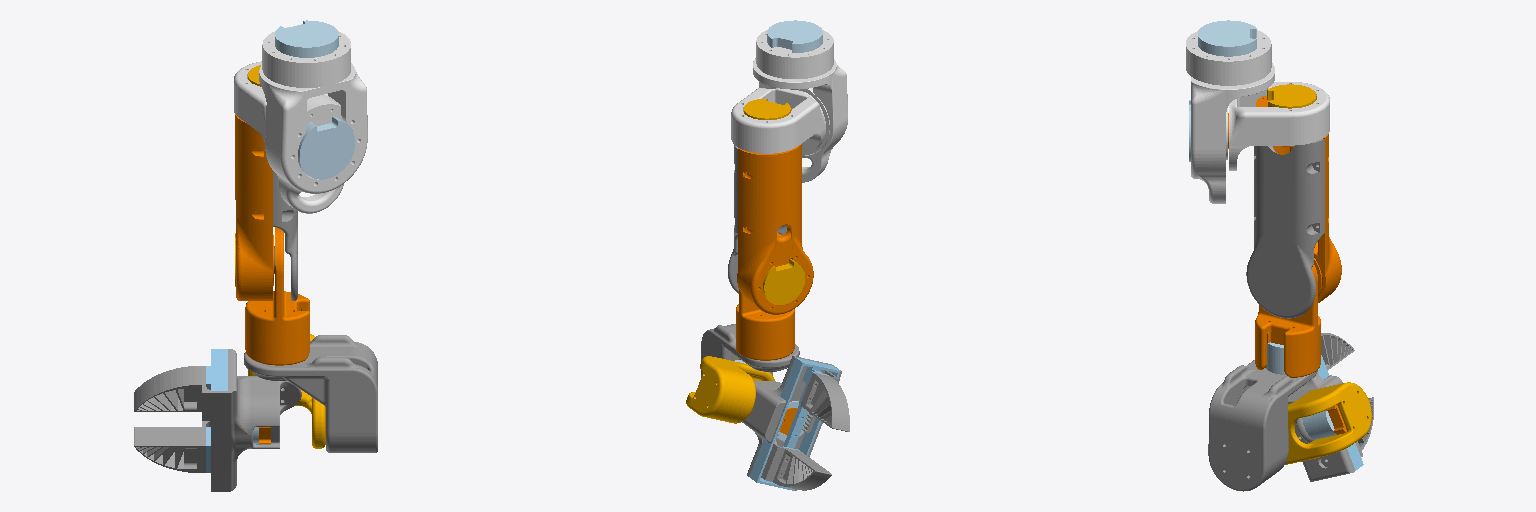
--- What the picture shows (computed from the rendered views, not written in the file) ---
Views: 3 orthographic renders of the robot side by side, from view 1: azimuth 30°, elevation 25°; view 2: azimuth 150°, elevation 25°; view 3: azimuth 270°, elevation 25°.
Robot: robot — 40 links, 39 joints (8 revolute, 2 prismatic, 29 fixed); root link link_x8_1_pcb_x8_1; default pose: all joints at 0.
Visible links, largest first — view 1: link_hand_right_1_wrist_pitch_right_2, link_shoulder_inner_1, link_hand_right_1_twist_mount_1, link_elbow_1, link_forearm_1, link_x8_1_outer_x8_1, link_x8_2_pcb_x8_1, link_hand_right_1_gripper_1, link_hand_right_1_gripper_2, link_x8_1_pcb_x8_1, link_shoulder_nontorso_1, link_elbow_case_1 (+3 smaller); view 2: link_elbow_1, link_shoulder_nontorso_1, link_hand_right_1_wrist_yaw_1, link_shoulder_inner_1, link_forearm_1, link_x8_1_outer_x8_1, link_hand_right_1_twist_mount_1, link_hand_right_1_base_attachment_1, link_hand_right_1_gripper_1, link_hand_right_1_wrist_pitch_right_2, link_hand_right_1_gripper_2, link_x8_1_pcb_x8_1 (+3 smaller); view 3: link_elbow_case_1, link_hand_right_1_wrist_pitch_right_2, link_shoulder_nontorso_1, link_shoulder_inner_1, link_hand_right_1_wrist_yaw_1, link_forearm_1, link_x8_1_outer_x8_1, link_hand_right_1_twist_mount_1, link_x8_1_pcb_x8_1, link_elbow_1, link_x6_1_pcb_x6_1, link_hand_right_1_gripper_1 (+1 smaller).
Boxes of the visible links, x1,y1,x2,y2 form: link_hand_right_1_wrist_pitch_right_2: (244, 335, 377, 452); link_shoulder_inner_1: (259, 63, 367, 213); link_hand_right_1_twist_mount_1: (211, 349, 301, 491); link_elbow_1: (235, 114, 272, 300); link_forearm_1: (245, 227, 309, 365); link_x8_1_outer_x8_1: (262, 27, 350, 87); link_x8_2_pcb_x8_1: (298, 116, 354, 179); link_hand_right_1_gripper_1: (134, 366, 201, 411); link_hand_right_1_gripper_2: (134, 427, 201, 472); link_x8_1_pcb_x8_1: (275, 20, 338, 57); link_shoulder_nontorso_1: (234, 61, 327, 141); link_elbow_case_1: (273, 171, 297, 300); link_elbow_1: (737, 144, 813, 314); link_shoulder_nontorso_1: (731, 88, 825, 155); link_hand_right_1_wrist_yaw_1: (686, 356, 774, 423); link_shoulder_inner_1: (753, 58, 847, 182); link_forearm_1: (736, 290, 794, 360); link_x8_1_outer_x8_1: (756, 30, 833, 78); link_hand_right_1_twist_mount_1: (742, 356, 841, 490); link_hand_right_1_base_attachment_1: (749, 357, 840, 490); link_hand_right_1_gripper_1: (802, 374, 849, 431); link_hand_right_1_wrist_pitch_right_2: (701, 324, 799, 376); link_hand_right_1_gripper_2: (773, 449, 831, 490); link_x8_1_pcb_x8_1: (767, 20, 822, 52); link_elbow_case_1: (1246, 139, 1324, 318); link_hand_right_1_wrist_pitch_right_2: (1208, 360, 1317, 491); link_shoulder_nontorso_1: (1229, 82, 1329, 170); link_shoulder_inner_1: (1191, 63, 1274, 203); link_hand_right_1_wrist_yaw_1: (1285, 382, 1371, 464); link_forearm_1: (1255, 265, 1320, 377); link_x8_1_outer_x8_1: (1186, 30, 1271, 85); link_hand_right_1_twist_mount_1: (1288, 372, 1354, 481); link_x8_1_pcb_x8_1: (1198, 20, 1256, 56); link_elbow_1: (1273, 134, 1341, 302); link_x6_1_pcb_x6_1: (1267, 84, 1316, 108); link_hand_right_1_gripper_1: (1321, 333, 1354, 369).
Size in the robot's own frame: 0.2638 by 0.2154 by 0.5849 metres.
40 mesh visuals loaded from 40 distinct referenced files (40 binary STL).

The robot description file, URDF, robot "robot":
<?xml version='1.0' encoding='utf-8'?>
<robot name="robot">
  <link name="link_x8_1_pcb_x8_1">
    <visual>
      <origin xyz="0 0 0" rpy="0 0 0" />
      <geometry>
        <mesh filename="./meshes/x8_1_pcb_x8_1.stl" />
      </geometry>
      <material name="link_x8_1_pcb_x8_1_material">
        <color rgba="0.76862745 0.88627451 0.95294118 1" />
      </material>
    </visual>
    <collision>
      <origin xyz="0 0 0" rpy="0 0 0" />
      <geometry>
        <mesh filename="./meshes/x8_1_pcb_x8_1.stl" />
      </geometry>
    </collision>
    <inertial>
      <mass value="0.048559947" />
      <inertia ixx="1.3682683e-05" iyy="1.6841341e-05" izz="2.9259442e-05" ixy="0" ixz="0" iyz="0" />
      <origin xyz="0 0 0" rpy="0 0 0" />
    </inertial>
  </link>
  <link name="link_x8_1_outer_x8_1">
    <visual>
      <origin xyz="0 0 0" rpy="0 0 0" />
      <geometry>
        <mesh filename="./meshes/x8_1_outer_x8_1.stl" />
      </geometry>
      <material name="link_x8_1_outer_x8_1_material">
        <color rgba="0.91764706 0.91764706 0.91764706 1" />
      </material>
    </visual>
    <collision>
      <origin xyz="0 0 0" rpy="0 0 0" />
      <geometry>
        <mesh filename="./meshes/x8_1_outer_x8_1.stl" />
      </geometry>
    </collision>
    <inertial>
      <mass value="0.64135588" />
      <inertia ixx="0.0004995997" iyy="0.00049960271" izz="0.00089477222" ixy="0" ixz="0" iyz="0" />
      <origin xyz="0 0 0.015652571" rpy="3.5012681e-06 0 0" />
    </inertial>
  </link>
  <joint name="joint_x8_1_fastened_1" type="fixed">
    <origin xyz="0 0.0021459929 -0.00625" rpy="3.1415927 0 0" />
    <parent link="link_x8_1_pcb_x8_1" />
    <child link="link_x8_1_outer_x8_1" />
  </joint>
  <link name="link_x8_1_inner_x8_1">
    <visual>
      <origin xyz="0 0 0" rpy="0 0 0" />
      <geometry>
        <mesh filename="./meshes/x8_1_inner_x8_1.stl" />
      </geometry>
      <material name="link_x8_1_inner_x8_1_material">
        <color rgba="0.97254902 0.52941176 0.0039215686 1" />
      </material>
    </visual>
    <collision>
      <origin xyz="0 0 0" rpy="0 0 0" />
      <geometry>
        <mesh filename="./meshes/x8_1_inner_x8_1.stl" />
      </geometry>
    </collision>
    <inertial>
      <mass value="0.13865861" />
      <inertia ixx="2.7062809e-05" iyy="2.7062809e-05" izz="2.8959079e-05" ixy="0" ixz="0" iyz="0" />
      <origin xyz="0 0 -0.0165" rpy="3.1415927 0 0" />
    </inertial>
  </link>
  <joint name="joint_x8_1_dof_x8" type="revolute">
    <origin xyz="0 0 0" rpy="3.1415927 0 0" />
    <parent link="link_x8_1_outer_x8_1" />
    <child link="link_x8_1_inner_x8_1" />
    <limit effort="80" velocity="5" lower="-2.0943951" upper="2.0943951" />
    <axis xyz="0 0 -1" />
  </joint>
  <link name="link_shoulder_inner_1">
    <visual>
      <origin xyz="0 0 0" rpy="0 0 0" />
      <geometry>
        <mesh filename="./meshes/shoulder_inner_1.stl" />
      </geometry>
      <material name="link_shoulder_inner_1_material">
        <color rgba="0.91764706 0.91764706 0.91764706 1" />
      </material>
    </visual>
    <collision>
      <origin xyz="0 0 0" rpy="0 0 0" />
      <geometry>
        <mesh filename="./meshes/shoulder_inner_1.stl" />
      </geometry>
    </collision>
    <inertial>
      <mass value="0.098694821" />
      <inertia ixx="0.00029234831" iyy="0.00037180534" izz="0.0001651911" ixy="0" ixz="1.5856387e-06" iyz="-3.1309639e-05" />
      <origin xyz="0.00053435842 0.030503746 0.051654382" rpy="1.7179432 -0.0013420304 -1.5828294" />
    </inertial>
  </link>
  <joint name="joint_fastened_8" type="fixed">
    <origin xyz="0 0.0155 -0.033" rpy="3.1415927 0 0" />
    <parent link="link_x8_1_inner_x8_1" />
    <child link="link_shoulder_inner_1" />
  </joint>
  <link name="link_x8_2_outer_x8_1">
    <visual>
      <origin xyz="0 0 0" rpy="0 0 0" />
      <geometry>
        <mesh filename="./meshes/x8_2_outer_x8_1.stl" />
      </geometry>
      <material name="link_x8_2_outer_x8_1_material">
        <color rgba="0.91764706 0.91764706 0.91764706 1" />
      </material>
    </visual>
    <collision>
      <origin xyz="0 0 0" rpy="0 0 0" />
      <geometry>
        <mesh filename="./meshes/x8_2_outer_x8_1.stl" />
      </geometry>
    </collision>
    <inertial>
      <mass value="0.64135588" />
      <inertia ixx="0.0004995997" iyy="0.00049960271" izz="0.00089477222" ixy="0" ixz="0" iyz="0" />
      <origin xyz="0.033978714 -0.024687118 -0.015652571" rpy="-3.1415892 0 0" />
    </inertial>
  </link>
  <joint name="joint_fastened_11" type="fixed">
    <origin xyz="-0.033978714 0.0485 0.052313019" rpy="-1.5707963 0 0" />
    <parent link="link_shoulder_inner_1" />
    <child link="link_x8_2_outer_x8_1" />
  </joint>
  <link name="link_x8_2_inner_x8_1">
    <visual>
      <origin xyz="0 0 0" rpy="0 0 0" />
      <geometry>
        <mesh filename="./meshes/x8_2_inner_x8_1.stl" />
      </geometry>
      <material name="link_x8_2_inner_x8_1_material">
        <color rgba="0.97254902 0.52941176 0.0039215686 1" />
      </material>
    </visual>
    <collision>
      <origin xyz="0 0 0" rpy="0 0 0" />
      <geometry>
        <mesh filename="./meshes/x8_2_inner_x8_1.stl" />
      </geometry>
    </collision>
    <inertial>
      <mass value="0.13865861" />
      <inertia ixx="2.7062809e-05" iyy="2.7062809e-05" izz="2.8959079e-05" ixy="0" ixz="0" iyz="0" />
      <origin xyz="0 0 -0.0165" rpy="3.1415927 0 0" />
    </inertial>
  </link>
  <joint name="joint_x8_2_dof_x8" type="revolute">
    <origin xyz="0.033978714 -0.024686981 0" rpy="0 0 0" />
    <parent link="link_x8_2_outer_x8_1" />
    <child link="link_x8_2_inner_x8_1" />
    <limit effort="80" velocity="5" lower="0" upper="1.9198622" />
    <axis xyz="0 0 -1" />
  </joint>
  <link name="link_x8_2_pcb_x8_1">
    <visual>
      <origin xyz="0 0 0" rpy="0 0 0" />
      <geometry>
        <mesh filename="./meshes/x8_2_pcb_x8_1.stl" />
      </geometry>
      <material name="link_x8_2_pcb_x8_1_material">
        <color rgba="0.76862745 0.88627451 0.95294118 1" />
      </material>
    </visual>
    <collision>
      <origin xyz="0 0 0" rpy="0 0 0" />
      <geometry>
        <mesh filename="./meshes/x8_2_pcb_x8_1.stl" />
      </geometry>
    </collision>
    <inertial>
      <mass value="0.048559947" />
      <inertia ixx="1.3682683e-05" iyy="1.6841341e-05" izz="2.9259442e-05" ixy="0" ixz="0" iyz="0" />
      <origin xyz="0 0.0021459929 -0.00625" rpy="3.1415927 0 0" />
    </inertial>
  </link>
  <joint name="joint_x8_2_fastened_1" type="fixed">
    <origin xyz="0.033978714 -0.024686981 0" rpy="3.1415927 0 0" />
    <parent link="link_x8_2_outer_x8_1" />
    <child link="link_x8_2_pcb_x8_1" />
  </joint>
  <link name="link_shoulder_nontorso_1">
    <visual>
      <origin xyz="0 0 0" rpy="0 0 0" />
      <geometry>
        <mesh filename="./meshes/shoulder_nontorso_1.stl" />
      </geometry>
      <material name="link_shoulder_nontorso_1_material">
        <color rgba="0.91764706 0.91764706 0.91764706 1" />
      </material>
    </visual>
    <collision>
      <origin xyz="0 0 0" rpy="0 0 0" />
      <geometry>
        <mesh filename="./meshes/shoulder_nontorso_1.stl" />
      </geometry>
    </collision>
    <inertial>
      <mass value="0.063774449" />
      <inertia ixx="0.00010527094" iyy="0.00014035757" izz="8.752817e-05" ixy="0" ixz="0" iyz="2.014856e-05" />
      <origin xyz="0 -0.00039671854 -0.036390201" rpy="1.2449817 2.5435401e-06 -1.5707837" />
    </inertial>
  </link>
  <joint name="joint_fastened_1" type="fixed">
    <origin xyz="0 0.0155 -0.033" rpy="0 0 0" />
    <parent link="link_x8_2_inner_x8_1" />
    <child link="link_shoulder_nontorso_1" />
  </joint>
  <link name="link_x6_1_outer_x6_1">
    <visual>
      <origin xyz="0 0 0" rpy="0 0 0" />
      <geometry>
        <mesh filename="./meshes/x6_1_outer_x6_1.stl" />
      </geometry>
      <material name="link_x6_1_outer_x6_1_material">
        <color rgba="0.97254902 0.52941176 0.0039215686 1" />
      </material>
    </visual>
    <collision>
      <origin xyz="0 0 0" rpy="0 0 0" />
      <geometry>
        <mesh filename="./meshes/x6_1_outer_x6_1.stl" />
      </geometry>
    </collision>
    <inertial>
      <mass value="0.29628126" />
      <inertia ixx="0.00015648456" iyy="0.00026587276" izz="0.00015648465" ixy="0" ixz="0" iyz="0" />
      <origin xyz="0 0.036 -0.015437886" rpy="-3.1415663 0 -1.5707967" />
    </inertial>
  </link>
  <joint name="joint_fastened_2" type="fixed">
    <origin xyz="-0.036 0.017 -0.0705" rpy="-1.5707963 -1.5707963 0" />
    <parent link="link_shoulder_nontorso_1" />
    <child link="link_x6_1_outer_x6_1" />
  </joint>
  <link name="link_x6_1_inner_x6_1">
    <visual>
      <origin xyz="0 0 0" rpy="0 0 0" />
      <geometry>
        <mesh filename="./meshes/x6_1_inner_x6_1.stl" />
      </geometry>
      <material name="link_x6_1_inner_x6_1_material">
        <color rgba="0.49803922 0.49803922 0.49803922 1" />
      </material>
    </visual>
    <collision>
      <origin xyz="0 0 0" rpy="0 0 0" />
      <geometry>
        <mesh filename="./meshes/x6_1_inner_x6_1.stl" />
      </geometry>
    </collision>
    <inertial>
      <mass value="0.053731806" />
      <inertia ixx="7.930353e-06" iyy="6.4016694e-06" izz="7.930353e-06" ixy="0" ixz="0" iyz="0" />
      <origin xyz="0 0 -0.01625" rpy="1.5707963 1.5707963 0" />
    </inertial>
  </link>
  <joint name="joint_x6_1_dof_x6" type="revolute">
    <origin xyz="0 0.036 0" rpy="0 0 0" />
    <parent link="link_x6_1_outer_x6_1" />
    <child link="link_x6_1_inner_x6_1" />
    <limit effort="80" velocity="5" lower="-1.0471976" upper="3.6651914" />
    <axis xyz="0 0 -1" />
  </joint>
  <link name="link_x6_1_pcb_x6_1">
    <visual>
      <origin xyz="0 0 0" rpy="0 0 0" />
      <geometry>
        <mesh filename="./meshes/x6_1_pcb_x6_1.stl" />
      </geometry>
      <material name="link_x6_1_pcb_x6_1_material">
        <color rgba="0.98039216 0.71372549 0.0039215686 1" />
      </material>
    </visual>
    <collision>
      <origin xyz="0 0 0" rpy="0 0 0" />
      <geometry>
        <mesh filename="./meshes/x6_1_pcb_x6_1.stl" />
      </geometry>
    </collision>
    <inertial>
      <mass value="0.032395494" />
      <inertia ixx="6.266658e-06" iyy="1.3729044e-05" izz="8.2398782e-06" ixy="0" ixz="0" iyz="0" />
      <origin xyz="-0.0024625066 8.0472631e-06 -0.006" rpy="0.003369609 0.003369609 3.1415927" />
    </inertial>
  </link>
  <joint name="joint_x6_1_fastened_1" type="fixed">
    <origin xyz="0 0.036 0" rpy="3.1415927 0 0" />
    <parent link="link_x6_1_outer_x6_1" />
    <child link="link_x6_1_pcb_x6_1" />
  </joint>
  <link name="link_elbow_1">
    <visual>
      <origin xyz="0 0 0" rpy="0 0 0" />
      <geometry>
        <mesh filename="./meshes/elbow_1.stl" />
      </geometry>
      <material name="link_elbow_1_material">
        <color rgba="0.97254902 0.52941176 0.0039215686 1" />
      </material>
    </visual>
    <collision>
      <origin xyz="0 0 0" rpy="0 0 0" />
      <geometry>
        <mesh filename="./meshes/elbow_1.stl" />
      </geometry>
    </collision>
    <inertial>
      <mass value="0.098238471" />
      <inertia ixx="0.00045271693" iyy="8.9162813e-05" izz="0.00050860798" ixy="0" ixz="0" iyz="1.2964992e-05" />
      <origin xyz="0.035397182 -6.3197008e-05 -0.095352686" rpy="1.6213128 -1.5398856 1.5169082" />
    </inertial>
  </link>
  <joint name="joint_fastened_3" type="fixed">
    <origin xyz="0.00575 0.0099592921 -0.0325" rpy="0 0 -2.0943951" />
    <parent link="link_x6_1_inner_x6_1" />
    <child link="link_elbow_1" />
  </joint>
  <link name="link_x6_2_outer_x6_1">
    <visual>
      <origin xyz="0 0 0" rpy="0 0 0" />
      <geometry>
        <mesh filename="./meshes/x6_2_outer_x6_1.stl" />
      </geometry>
      <material name="link_x6_2_outer_x6_1_material">
        <color rgba="0.97254902 0.52941176 0.0039215686 1" />
      </material>
    </visual>
    <collision>
      <origin xyz="0 0 0" rpy="0 0 0" />
      <geometry>
        <mesh filename="./meshes/x6_2_outer_x6_1.stl" />
      </geometry>
    </collision>
    <inertial>
      <mass value="0.29628126" />
      <inertia ixx="0.00015648456" iyy="0.00026587276" izz="0.00015648465" ixy="0" ixz="0" iyz="0" />
      <origin xyz="-0.031176923 0.018 -0.015437886" rpy="-3.1415663 0 -1.5707967" />
    </inertial>
  </link>
  <joint name="joint_fastened_4" type="fixed">
    <origin xyz="0.044 0.018 -0.15032309" rpy="-3.1415927 -1.5707963 0" />
    <parent link="link_elbow_1" />
    <child link="link_x6_2_outer_x6_1" />
  </joint>
  <link name="link_elbow_case_1">
    <visual>
      <origin xyz="0 0 0" rpy="0 0 0" />
      <geometry>
        <mesh filename="./meshes/elbow_case_1.stl" />
      </geometry>
      <material name="link_elbow_case_1_material">
        <color rgba="0.64705882 0.64705882 0.64705882 1" />
      </material>
    </visual>
    <collision>
      <origin xyz="0 0 0" rpy="0 0 0" />
      <geometry>
        <mesh filename="./meshes/elbow_case_1.stl" />
      </geometry>
    </collision>
    <inertial>
      <mass value="0.074847468" />
      <inertia ixx="6.1192099e-05" iyy="0.00026901522" izz="0.00032097721" ixy="-2.3127639e-06" ixz="-1.5578374e-05" iyz="0" />
      <origin xyz="-0.013470014 -0.03920712 -0.017022247" rpy="3.134696 -0.011643395 3.0819768" />
    </inertial>
  </link>
  <joint name="joint_fastened_9" type="fixed">
    <origin xyz="0.014 0.04032563 -0.10877135" rpy="0 1.5707963 0" />
    <parent link="link_elbow_1" />
    <child link="link_elbow_case_1" />
  </joint>
  <link name="link_x6_2_inner_x6_1">
    <visual>
      <origin xyz="0 0 0" rpy="0 0 0" />
      <geometry>
        <mesh filename="./meshes/x6_2_inner_x6_1.stl" />
      </geometry>
      <material name="link_x6_2_inner_x6_1_material">
        <color rgba="0.49803922 0.49803922 0.49803922 1" />
      </material>
    </visual>
    <collision>
      <origin xyz="0 0 0" rpy="0 0 0" />
      <geometry>
        <mesh filename="./meshes/x6_2_inner_x6_1.stl" />
      </geometry>
    </collision>
    <inertial>
      <mass value="0.053731806" />
      <inertia ixx="7.930353e-06" iyy="6.4016694e-06" izz="7.930353e-06" ixy="0" ixz="0" iyz="0" />
      <origin xyz="0 0 -0.01625" rpy="1.5707963 1.5707963 0" />
    </inertial>
  </link>
  <joint name="joint_x6_2_dof_x6" type="revolute">
    <origin xyz="-0.031176915 0.018 0" rpy="0 0 0" />
    <parent link="link_x6_2_outer_x6_1" />
    <child link="link_x6_2_inner_x6_1" />
    <limit effort="80" velocity="5" lower="-1.5707963" upper="1.5707963" />
    <axis xyz="0 0 -1" />
  </joint>
  <link name="link_x6_2_pcb_x6_1">
    <visual>
      <origin xyz="0 0 0" rpy="0 0 0" />
      <geometry>
        <mesh filename="./meshes/x6_2_pcb_x6_1.stl" />
      </geometry>
      <material name="link_x6_2_pcb_x6_1_material">
        <color rgba="0.98039216 0.71372549 0.0039215686 1" />
      </material>
    </visual>
    <collision>
      <origin xyz="0 0 0" rpy="0 0 0" />
      <geometry>
        <mesh filename="./meshes/x6_2_pcb_x6_1.stl" />
      </geometry>
    </collision>
    <inertial>
      <mass value="0.032395494" />
      <inertia ixx="6.266658e-06" iyy="1.3729044e-05" izz="8.2398782e-06" ixy="0" ixz="0" iyz="0" />
      <origin xyz="-0.0024625066 8.0472631e-06 -0.006" rpy="0.003369609 0.003369609 3.1415927" />
    </inertial>
  </link>
  <joint name="joint_x6_2_fastened_1" type="fixed">
    <origin xyz="-0.031176915 0.018 0" rpy="3.1415927 0 0" />
    <parent link="link_x6_2_outer_x6_1" />
    <child link="link_x6_2_pcb_x6_1" />
  </joint>
  <link name="link_forearm_1">
    <visual>
      <origin xyz="0 0 0" rpy="0 0 0" />
      <geometry>
        <mesh filename="./meshes/forearm_1.stl" />
      </geometry>
      <material name="link_forearm_1_material">
        <color rgba="0.97254902 0.52941176 0.0039215686 1" />
      </material>
    </visual>
    <collision>
      <origin xyz="0 0 0" rpy="0 0 0" />
      <geometry>
        <mesh filename="./meshes/forearm_1.stl" />
      </geometry>
    </collision>
    <inertial>
      <mass value="0.06383574" />
      <inertia ixx="0.00010660821" iyy="0.00012183306" izz="4.9046771e-05" ixy="0" ixz="0" iyz="4.8948211e-06" />
      <origin xyz="-0.067423421 0 0.0020181814" rpy="-0.78424283 1.4762905 -2.3572805" />
    </inertial>
  </link>
  <joint name="joint_fastened_5" type="fixed">
    <origin xyz="0.0115 0 -0.0325" rpy="3.1415927 0 0" />
    <parent link="link_x6_2_inner_x6_1" />
    <child link="link_forearm_1" />
  </joint>
  <link name="link_x4_1_pcb_x4_h_1">
    <visual>
      <origin xyz="0 0 0" rpy="0 0 0" />
      <geometry>
        <mesh filename="./meshes/x4_1_pcb_x4_h_1.stl" />
      </geometry>
      <material name="link_x4_1_pcb_x4_h_1_material">
        <color rgba="0.97254902 0.52941176 0.0039215686 1" />
      </material>
    </visual>
    <collision>
      <origin xyz="0 0 0" rpy="0 0 0" />
      <geometry>
        <mesh filename="./meshes/x4_1_pcb_x4_h_1.stl" />
      </geometry>
    </collision>
    <inertial>
      <mass value="0.029564618" />
      <inertia ixx="4.8930802e-06" iyy="6.0010713e-06" izz="9.9964453e-06" ixy="0" ixz="0" iyz="0" />
      <origin xyz="0.015909903 0.014250744 -0.0067605702" rpy="3.1415927 0 0" />
    </inertial>
  </link>
  <joint name="joint_fastened_6" type="fixed">
    <origin xyz="-0.076 -0.015909901 -0.010909904" rpy="1.5707963 0 1.5707963" />
    <parent link="link_forearm_1" />
    <child link="link_x4_1_pcb_x4_h_1" />
  </joint>
  <link name="link_x4_1_outer_x4_h_1">
    <visual>
      <origin xyz="0 0 0" rpy="0 0 0" />
      <geometry>
        <mesh filename="./meshes/x4_1_outer_x4_h_1.stl" />
      </geometry>
      <material name="link_x4_1_outer_x4_h_1_material">
        <color rgba="0.76862745 0.88627451 0.95294118 1" />
      </material>
    </visual>
    <collision>
      <origin xyz="0 0 0" rpy="0 0 0" />
      <geometry>
        <mesh filename="./meshes/x4_1_outer_x4_h_1.stl" />
      </geometry>
    </collision>
    <inertial>
      <mass value="0.15533844" />
      <inertia ixx="5.6668323e-05" iyy="5.6668375e-05" izz="8.3408195e-05" ixy="0" ixz="0" iyz="0" />
      <origin xyz="0 0 0.01700001" rpy="1.3941927e-06 0 0" />
    </inertial>
  </link>
  <joint name="joint_x4_1_fastened_1" type="fixed">
    <origin xyz="0.015909904 0.015909902 -0.0135" rpy="3.1415927 0 0" />
    <parent link="link_x4_1_pcb_x4_h_1" />
    <child link="link_x4_1_outer_x4_h_1" />
  </joint>
  <link name="link_x4_1_inner_x4_h_1">
    <visual>
      <origin xyz="0 0 0" rpy="0 0 0" />
      <geometry>
        <mesh filename="./meshes/x4_1_inner_x4_h_1.stl" />
      </geometry>
      <material name="link_x4_1_inner_x4_h_1_material">
        <color rgba="0.97254902 0.52941176 0.0039215686 1" />
      </material>
    </visual>
    <collision>
      <origin xyz="0 0 0" rpy="0 0 0" />
      <geometry>
        <mesh filename="./meshes/x4_1_inner_x4_h_1.stl" />
      </geometry>
    </collision>
    <inertial>
      <mass value="0.14964637" />
      <inertia ixx="2.7715788e-05" iyy="2.7715788e-05" izz="2.5745478e-05" ixy="0" ixz="0" iyz="0" />
      <origin xyz="0 0 -0.01725" rpy="3.1415927 0 3.1415927" />
    </inertial>
  </link>
  <joint name="joint_x4_1_dof_x4" type="revolute">
    <origin xyz="0 0 0" rpy="3.1415927 0 0" />
    <parent link="link_x4_1_outer_x4_h_1" />
    <child link="link_x4_1_inner_x4_h_1" />
    <limit effort="80" velocity="5" lower="-3.1415927" upper="3.1415927" />
    <axis xyz="0 0 -1" />
  </joint>
  <link name="link_hand_right_1_wrist_pitch_right_2">
    <visual>
      <origin xyz="0 0 0" rpy="0 0 0" />
      <geometry>
        <mesh filename="./meshes/hand_right_1_wrist_pitch_right_2.stl" />
      </geometry>
      <material name="link_hand_right_1_wrist_pitch_right_2_material">
        <color rgba="0.64705882 0.64705882 0.64705882 1" />
      </material>
    </visual>
    <collision>
      <origin xyz="0 0 0" rpy="0 0 0" />
      <geometry>
        <mesh filename="./meshes/hand_right_1_wrist_pitch_right_2.stl" />
      </geometry>
    </collision>
    <inertial>
      <mass value="0.11883921" />
      <inertia ixx="0.00022396918" iyy="0.00030973639" izz="0.00022964024" ixy="-2.3996515e-06" ixz="8.07447e-05" iyz="0" />
      <origin xyz="0.076364792 -0.0069891141 -0.041733842" rpy="0.13573534 -0.38777107 0.5781489" />
    </inertial>
  </link>
  <joint name="joint_fastened_10" type="fixed">
    <origin xyz="-0.0012020773 -0.011437002 -0.0345" rpy="0 0 1.5707963" />
    <parent link="link_x4_1_inner_x4_h_1" />
    <child link="link_hand_right_1_wrist_pitch_right_2" />
  </joint>
  <link name="link_hand_right_1_x4_3_pcb_x4_h_1">
    <visual>
      <origin xyz="0 0 0" rpy="0 0 0" />
      <geometry>
        <mesh filename="./meshes/hand_right_1_x4_3_pcb_x4_h_1.stl" />
      </geometry>
      <material name="link_hand_right_1_x4_3_pcb_x4_h_1_material">
        <color rgba="0.97254902 0.52941176 0.0039215686 1" />
      </material>
    </visual>
    <collision>
      <origin xyz="0 0 0" rpy="0 0 0" />
      <geometry>
        <mesh filename="./meshes/hand_right_1_x4_3_pcb_x4_h_1.stl" />
      </geometry>
    </collision>
    <inertial>
      <mass value="0.029564618" />
      <inertia ixx="4.8930802e-06" iyy="6.0010713e-06" izz="9.9964453e-06" ixy="0" ixz="0" iyz="0" />
      <origin xyz="-0.015909904 -0.017569059 -0.0067605702" rpy="3.1415927 0 0" />
    </inertial>
  </link>
  <joint name="joint_hand_right_1_fastened_5" type="fixed">
    <origin xyz="0.1103037 0.0091503732 -0.062090098" rpy="1.5707963 0 1.5707963" />
    <parent link="link_hand_right_1_wrist_pitch_right_2" />
    <child link="link_hand_right_1_x4_3_pcb_x4_h_1" />
  </joint>
  <link name="link_hand_right_1_x4_3_outer_x4_h_1">
    <visual>
      <origin xyz="0 0 0" rpy="0 0 0" />
      <geometry>
        <mesh filename="./meshes/hand_right_1_x4_3_outer_x4_h_1.stl" />
      </geometry>
      <material name="link_hand_right_1_x4_3_outer_x4_h_1_material">
        <color rgba="0.76862745 0.88627451 0.95294118 1" />
      </material>
    </visual>
    <collision>
      <origin xyz="0 0 0" rpy="0 0 0" />
      <geometry>
        <mesh filename="./meshes/hand_right_1_x4_3_outer_x4_h_1.stl" />
      </geometry>
    </collision>
    <inertial>
      <mass value="0.15533844" />
      <inertia ixx="5.6668323e-05" iyy="5.6668375e-05" izz="8.3408195e-05" ixy="0" ixz="0" iyz="0" />
      <origin xyz="0 0 0.01700001" rpy="1.3941927e-06 0 0" />
    </inertial>
  </link>
  <joint name="joint_hand_right_1_x4_3_fastened_1" type="fixed">
    <origin xyz="-0.015909904 -0.015909902 -0.0135" rpy="3.1415927 0 0" />
    <parent link="link_hand_right_1_x4_3_pcb_x4_h_1" />
    <child link="link_hand_right_1_x4_3_outer_x4_h_1" />
  </joint>
  <link name="link_hand_right_1_x4_3_inner_x4_h_1">
    <visual>
      <origin xyz="0 0 0" rpy="0 0 0" />
      <geometry>
        <mesh filename="./meshes/hand_right_1_x4_3_inner_x4_h_1.stl" />
      </geometry>
      <material name="link_hand_right_1_x4_3_inner_x4_h_1_material">
        <color rgba="0.97254902 0.52941176 0.0039215686 1" />
      </material>
    </visual>
    <collision>
      <origin xyz="0 0 0" rpy="0 0 0" />
      <geometry>
        <mesh filename="./meshes/hand_right_1_x4_3_inner_x4_h_1.stl" />
      </geometry>
    </collision>
    <inertial>
      <mass value="0.14964637" />
      <inertia ixx="2.7715788e-05" iyy="2.7715788e-05" izz="2.5745478e-05" ixy="0" ixz="0" iyz="0" />
      <origin xyz="0 0 -0.01725" rpy="3.1415927 0 3.1415927" />
    </inertial>
  </link>
  <joint name="joint_hand_right_1_x4_3_dof_x4" type="revolute">
    <origin xyz="0 0 0" rpy="3.1415927 0 0" />
    <parent link="link_hand_right_1_x4_3_outer_x4_h_1" />
    <child link="link_hand_right_1_x4_3_inner_x4_h_1" />
    <limit effort="80" velocity="5" lower="-3.1415927" upper="3.1415927" />
    <axis xyz="0 0 -1" />
  </joint>
  <link name="link_hand_right_1_wrist_yaw_1">
    <visual>
      <origin xyz="0 0 0" rpy="0 0 0" />
      <geometry>
        <mesh filename="./meshes/hand_right_1_wrist_yaw_1.stl" />
      </geometry>
      <material name="link_hand_right_1_wrist_yaw_1_material">
        <color rgba="0.98039216 0.71372549 0.0039215686 1" />
      </material>
    </visual>
    <collision>
      <origin xyz="0 0 0" rpy="0 0 0" />
      <geometry>
        <mesh filename="./meshes/hand_right_1_wrist_yaw_1.stl" />
      </geometry>
    </collision>
    <inertial>
      <mass value="0.060439892" />
      <inertia ixx="0.00012252444" iyy="7.0062832e-05" izz="0.0001120905" ixy="0" ixz="0" iyz="-3.5610326e-05" />
      <origin xyz="0 -0.0434315 -0.02963019" rpy="-0.51883845 -0.51883873 -1.8914113e-06" />
    </inertial>
  </link>
  <joint name="joint_hand_right_1_fastened_7" type="fixed">
    <origin xyz="0.010505773 0.0046774714 -0.0345" rpy="0 0 1.9896753" />
    <parent link="link_hand_right_1_x4_3_inner_x4_h_1" />
    <child link="link_hand_right_1_wrist_yaw_1" />
  </joint>
  <link name="link_hand_right_1_x4_1_pcb_x4_h_1">
    <visual>
      <origin xyz="0 0 0" rpy="0 0 0" />
      <geometry>
        <mesh filename="./meshes/hand_right_1_x4_1_pcb_x4_h_1.stl" />
      </geometry>
      <material name="link_hand_right_1_x4_1_pcb_x4_h_1_material">
        <color rgba="0.97254902 0.52941176 0.0039215686 1" />
      </material>
    </visual>
    <collision>
      <origin xyz="0 0 0" rpy="0 0 0" />
      <geometry>
        <mesh filename="./meshes/hand_right_1_x4_1_pcb_x4_h_1.stl" />
      </geometry>
    </collision>
    <inertial>
      <mass value="0.029564618" />
      <inertia ixx="4.8930802e-06" iyy="6.0010713e-06" izz="9.9964453e-06" ixy="0" ixz="0" iyz="0" />
      <origin xyz="-0.015909902 0.014250747 -0.0067605702" rpy="3.1415927 0 0" />
    </inertial>
  </link>
  <joint name="joint_hand_right_1_fastened_2" type="fixed">
    <origin xyz="0.015909902 -0.0812 -0.068909904" rpy="1.5707963 0 0" />
    <parent link="link_hand_right_1_wrist_yaw_1" />
    <child link="link_hand_right_1_x4_1_pcb_x4_h_1" />
  </joint>
  <link name="link_hand_right_1_x4_1_outer_x4_h_1">
    <visual>
      <origin xyz="0 0 0" rpy="0 0 0" />
      <geometry>
        <mesh filename="./meshes/hand_right_1_x4_1_outer_x4_h_1.stl" />
      </geometry>
      <material name="link_hand_right_1_x4_1_outer_x4_h_1_material">
        <color rgba="0.76862745 0.88627451 0.95294118 1" />
      </material>
    </visual>
    <collision>
      <origin xyz="0 0 0" rpy="0 0 0" />
      <geometry>
        <mesh filename="./meshes/hand_right_1_x4_1_outer_x4_h_1.stl" />
      </geometry>
    </collision>
    <inertial>
      <mass value="0.15533844" />
      <inertia ixx="5.6668323e-05" iyy="5.6668375e-05" izz="8.3408195e-05" ixy="0" ixz="0" iyz="0" />
      <origin xyz="0 0 0.01700001" rpy="1.3941927e-06 0 0" />
    </inertial>
  </link>
  <joint name="joint_hand_right_1_x4_1_fastened_1" type="fixed">
    <origin xyz="-0.015909902 0.015909904 -0.0135" rpy="3.1415927 0 0" />
    <parent link="link_hand_right_1_x4_1_pcb_x4_h_1" />
    <child link="link_hand_right_1_x4_1_outer_x4_h_1" />
  </joint>
  <link name="link_hand_right_1_x4_1_inner_x4_h_1">
    <visual>
      <origin xyz="0 0 0" rpy="0 0 0" />
      <geometry>
        <mesh filename="./meshes/hand_right_1_x4_1_inner_x4_h_1.stl" />
      </geometry>
      <material name="link_hand_right_1_x4_1_inner_x4_h_1_material">
        <color rgba="0.97254902 0.52941176 0.0039215686 1" />
      </material>
    </visual>
    <collision>
      <origin xyz="0 0 0" rpy="0 0 0" />
      <geometry>
        <mesh filename="./meshes/hand_right_1_x4_1_inner_x4_h_1.stl" />
      </geometry>
    </collision>
    <inertial>
      <mass value="0.14964637" />
      <inertia ixx="2.7715788e-05" iyy="2.7715788e-05" izz="2.5745478e-05" ixy="0" ixz="0" iyz="0" />
      <origin xyz="0 0 -0.01725" rpy="3.1415927 0 3.1415927" />
    </inertial>
  </link>
  <joint name="joint_hand_right_1_x4_1_dof_x4" type="revolute">
    <origin xyz="0 0 0" rpy="3.1415927 0 0" />
    <parent link="link_hand_right_1_x4_1_outer_x4_h_1" />
    <child link="link_hand_right_1_x4_1_inner_x4_h_1" />
    <limit effort="80" velocity="5" lower="-2.6179939" upper="0.52359878" />
    <axis xyz="0 0 -1" />
  </joint>
  <link name="link_hand_right_1_twist_mount_1">
    <visual>
      <origin xyz="0 0 0" rpy="0 0 0" />
      <geometry>
        <mesh filename="./meshes/hand_right_1_twist_mount_1.stl" />
      </geometry>
      <material name="link_hand_right_1_twist_mount_1_material">
        <color rgba="0.64705882 0.64705882 0.64705882 1" />
      </material>
    </visual>
    <collision>
      <origin xyz="0 0 0" rpy="0 0 0" />
      <geometry>
        <mesh filename="./meshes/hand_right_1_twist_mount_1.stl" />
      </geometry>
    </collision>
    <inertial>
      <mass value="0.0736663" />
      <inertia ixx="8.1299893e-05" iyy="0.0001454722" izz="0.00013928767" ixy="0" ixz="0" iyz="-9.0812077e-06" />
      <origin xyz="-8.7207636e-05 -0.023388415 -0.035441177" rpy="0 0.00091077936 -3.1411246" />
    </inertial>
  </link>
  <joint name="joint_hand_right_1_fastened_1" type="fixed">
    <origin xyz="-0.0012020773 -0.011437002 -0.0345" rpy="0 0 0" />
    <parent link="link_hand_right_1_x4_1_inner_x4_h_1" />
    <child link="link_hand_right_1_twist_mount_1" />
  </joint>
  <link name="link_hand_right_1_x4_2_pcb_x4_h_1">
    <visual>
      <origin xyz="0 0 0" rpy="0 0 0" />
      <geometry>
        <mesh filename="./meshes/hand_right_1_x4_2_pcb_x4_h_1.stl" />
      </geometry>
      <material name="link_hand_right_1_x4_2_pcb_x4_h_1_material">
        <color rgba="0.97254902 0.52941176 0.0039215686 1" />
      </material>
    </visual>
    <collision>
      <origin xyz="0 0 0" rpy="0 0 0" />
      <geometry>
        <mesh filename="./meshes/hand_right_1_x4_2_pcb_x4_h_1.stl" />
      </geometry>
    </collision>
    <inertial>
      <mass value="0.029564618" />
      <inertia ixx="4.8930802e-06" iyy="6.0010713e-06" izz="9.9964453e-06" ixy="0" ixz="0" iyz="0" />
      <origin xyz="0 -0.0016591571 -0.0067605702" rpy="3.1415927 0 0" />
    </inertial>
  </link>
  <joint name="joint_hand_right_1_fastened_3" type="fixed">
    <origin xyz="0 0.0043 -0.0447" rpy="-1.5707963 0 0" />
    <parent link="link_hand_right_1_twist_mount_1" />
    <child link="link_hand_right_1_x4_2_pcb_x4_h_1" />
  </joint>
  <link name="link_hand_right_1_base_attachment_1">
    <visual>
      <origin xyz="0 0 0" rpy="0 0 0" />
      <geometry>
        <mesh filename="./meshes/hand_right_1_base_attachment_1.stl" />
      </geometry>
      <material name="link_hand_right_1_base_attachment_1_material">
        <color rgba="0.61568627 0.81176471 0.92941176 1" />
      </material>
    </visual>
    <collision>
      <origin xyz="0 0 0" rpy="0 0 0" />
      <geometry>
        <mesh filename="./meshes/hand_right_1_base_attachment_1.stl" />
      </geometry>
    </collision>
    <inertial>
      <mass value="0.011468358" />
      <inertia ixx="6.4460288e-06" iyy="4.2314403e-05" izz="4.8109475e-05" ixy="0" ixz="0" iyz="0" />
      <origin xyz="0.0625 0 -0.0086025856" rpy="3.1415927 0 0" />
    </inertial>
  </link>
  <joint name="joint_hand_right_1_fastened_6" type="fixed">
    <origin xyz="0.0625 -0.0432 -0.0447" rpy="1.5707963 0 3.1415927" />
    <parent link="link_hand_right_1_twist_mount_1" />
    <child link="link_hand_right_1_base_attachment_1" />
  </joint>
  <link name="link_hand_right_1_x4_2_outer_x4_h_1">
    <visual>
      <origin xyz="0 0 0" rpy="0 0 0" />
      <geometry>
        <mesh filename="./meshes/hand_right_1_x4_2_outer_x4_h_1.stl" />
      </geometry>
      <material name="link_hand_right_1_x4_2_outer_x4_h_1_material">
        <color rgba="0.76862745 0.88627451 0.95294118 1" />
      </material>
    </visual>
    <collision>
      <origin xyz="0 0 0" rpy="0 0 0" />
      <geometry>
        <mesh filename="./meshes/hand_right_1_x4_2_outer_x4_h_1.stl" />
      </geometry>
    </collision>
    <inertial>
      <mass value="0.15533844" />
      <inertia ixx="5.6668323e-05" iyy="5.6668375e-05" izz="8.3408195e-05" ixy="0" ixz="0" iyz="0" />
      <origin xyz="0 0 0.01700001" rpy="1.3941927e-06 0 0" />
    </inertial>
  </link>
  <joint name="joint_hand_right_1_x4_2_fastened_1" type="fixed">
    <origin xyz="0 0 -0.0135" rpy="3.1415927 0 0" />
    <parent link="link_hand_right_1_x4_2_pcb_x4_h_1" />
    <child link="link_hand_right_1_x4_2_outer_x4_h_1" />
  </joint>
  <link name="link_hand_right_1_slide_rail_1">
    <visual>
      <origin xyz="0 0 0" rpy="0 0 0" />
      <geometry>
        <mesh filename="./meshes/hand_right_1_slide_rail_1.stl" />
      </geometry>
      <material name="link_hand_right_1_slide_rail_1_material">
        <color rgba="0.61568627 0.81176471 0.92941176 1" />
      </material>
    </visual>
    <collision>
      <origin xyz="0 0 0" rpy="0 0 0" />
      <geometry>
        <mesh filename="./meshes/hand_right_1_slide_rail_1.stl" />
      </geometry>
    </collision>
    <inertial>
      <mass value="0.10830499" />
      <inertia ixx="1.9293716e-06" iyy="0.00020389137" izz="0.00020466548" ixy="0" ixz="0" iyz="0" />
      <origin xyz="0.0625 0 -0.004" rpy="3.1415927 0 0" />
    </inertial>
  </link>
  <joint name="joint_hand_right_1_fastened_10" type="fixed">
    <origin xyz="0.125 0 -0.011" rpy="0 0 3.1415927" />
    <parent link="link_hand_right_1_base_attachment_1" />
    <child link="link_hand_right_1_slide_rail_1" />
  </joint>
  <link name="link_hand_right_1_x4_2_inner_x4_h_1">
    <visual>
      <origin xyz="0 0 0" rpy="0 0 0" />
      <geometry>
        <mesh filename="./meshes/hand_right_1_x4_2_inner_x4_h_1.stl" />
      </geometry>
      <material name="link_hand_right_1_x4_2_inner_x4_h_1_material">
        <color rgba="0.97254902 0.52941176 0.0039215686 1" />
      </material>
    </visual>
    <collision>
      <origin xyz="0 0 0" rpy="0 0 0" />
      <geometry>
        <mesh filename="./meshes/hand_right_1_x4_2_inner_x4_h_1.stl" />
      </geometry>
    </collision>
    <inertial>
      <mass value="0.14964637" />
      <inertia ixx="2.7715788e-05" iyy="2.7715788e-05" izz="2.5745478e-05" ixy="0" ixz="0" iyz="0" />
      <origin xyz="0 0 -0.01725" rpy="3.1415927 0 3.1415927" />
    </inertial>
  </link>
  <joint name="joint_hand_right_1_x4_2_dof_x4" type="revolute">
    <origin xyz="0 0 0" rpy="3.1415927 0 0" />
    <parent link="link_hand_right_1_x4_2_outer_x4_h_1" />
    <child link="link_hand_right_1_x4_2_inner_x4_h_1" />
    <limit effort="80" velocity="5" lower="-3.1415927" upper="3.1415927" />
    <axis xyz="0 0 -1" />
  </joint>
  <link name="link_hand_right_1_slide_2">
    <visual>
      <origin xyz="0 0 0" rpy="0 0 0" />
      <geometry>
        <mesh filename="./meshes/hand_right_1_slide_2.stl" />
      </geometry>
      <material name="link_hand_right_1_slide_2_material">
        <color rgba="0.61568627 0.81176471 0.92941176 1" />
      </material>
    </visual>
    <collision>
      <origin xyz="0 0 0" rpy="0 0 0" />
      <geometry>
        <mesh filename="./meshes/hand_right_1_slide_2.stl" />
      </geometry>
    </collision>
    <inertial>
      <mass value="0.016500413" />
      <inertia ixx="2.973059e-06" iyy="1.0218079e-06" izz="3.926167e-06" ixy="0" ixz="0" iyz="0" />
      <origin xyz="0.002499054 0 -0.023" rpy="3.1415927 0 3.1415927" />
    </inertial>
  </link>
  <joint name="joint_hand_right_1_slider_3" type="prismatic">
    <origin xyz="-0.0125 0 -0.008" rpy="-3.1415927 1.5707963 0" />
    <parent link="link_hand_right_1_slide_rail_1" />
    <child link="link_hand_right_1_slide_2" />
    <limit effort="80" velocity="5" lower="-0.029" upper="0.005" />
    <axis xyz="0 0 -1" />
  </joint>
  <link name="link_hand_right_1_slide_1">
    <visual>
      <origin xyz="0 0 0" rpy="0 0 0" />
      <geometry>
        <mesh filename="./meshes/hand_right_1_slide_1.stl" />
      </geometry>
      <material name="link_hand_right_1_slide_1_material">
        <color rgba="0.61568627 0.81176471 0.92941176 1" />
      </material>
    </visual>
    <collision>
      <origin xyz="0 0 0" rpy="0 0 0" />
      <geometry>
        <mesh filename="./meshes/hand_right_1_slide_1.stl" />
      </geometry>
    </collision>
    <inertial>
      <mass value="0.016500413" />
      <inertia ixx="2.973059e-06" iyy="1.0218079e-06" izz="3.926167e-06" ixy="0" ixz="0" iyz="0" />
      <origin xyz="0.002499054 0 -0.023" rpy="3.1415927 0 3.1415927" />
    </inertial>
  </link>
  <joint name="joint_hand_right_1_slider_1" type="prismatic">
    <origin xyz="0.1375 0 -0.008" rpy="0 1.5707963 0" />
    <parent link="link_hand_right_1_slide_rail_1" />
    <child link="link_hand_right_1_slide_1" />
    <limit effort="80" velocity="5" lower="-0.029" upper="0.005" />
    <axis xyz="0 0 -1" />
    <mimic joint="joint_hand_right_1_slider_3" multiplier="-1" offset="0" />
  </joint>
  <link name="link_hand_right_1_rack_2">
    <visual>
      <origin xyz="0 0 0" rpy="0 0 0" />
      <geometry>
        <mesh filename="./meshes/hand_right_1_rack_2.stl" />
      </geometry>
      <material name="link_hand_right_1_rack_2_material">
        <color rgba="0.64705882 0.64705882 0.64705882 1" />
      </material>
    </visual>
    <collision>
      <origin xyz="0 0 0" rpy="0 0 0" />
      <geometry>
        <mesh filename="./meshes/hand_right_1_rack_2.stl" />
      </geometry>
    </collision>
    <inertial>
      <mass value="0.0061195502" />
      <inertia ixx="1.4114719e-06" iyy="2.8041609e-06" izz="3.1549803e-06" ixy="0" ixz="0" iyz="0" />
      <origin xyz="0.0039811959 0.0049615553 0.0051252105" rpy="-0.086502669 -0.085512537 0.41511208" />
    </inertial>
  </link>
  <joint name="joint_hand_right_1_fastened_8" type="fixed">
    <origin xyz="0.005 0.01 -0.033" rpy="0 -1.5707963 0" />
    <parent link="link_hand_right_1_slide_2" />
    <child link="link_hand_right_1_rack_2" />
  </joint>
  <link name="link_hand_right_1_rack_1">
    <visual>
      <origin xyz="0 0 0" rpy="0 0 0" />
      <geometry>
        <mesh filename="./meshes/hand_right_1_rack_1.stl" />
      </geometry>
      <material name="link_hand_right_1_rack_1_material">
        <color rgba="0.64705882 0.64705882 0.64705882 1" />
      </material>
    </visual>
    <collision>
      <origin xyz="0 0 0" rpy="0 0 0" />
      <geometry>
        <mesh filename="./meshes/hand_right_1_rack_1.stl" />
      </geometry>
    </collision>
    <inertial>
      <mass value="0.0061195502" />
      <inertia ixx="1.4114719e-06" iyy="2.8041609e-06" izz="3.1549803e-06" ixy="0" ixz="0" iyz="0" />
      <origin xyz="0.0039811959 0.02496156 0.0051252105" rpy="-0.086502669 -0.085512537 0.41511208" />
    </inertial>
  </link>
  <joint name="joint_hand_right_1_fastened_12" type="fixed">
    <origin xyz="0.005 -0.01 -0.033" rpy="0 -1.5707963 0" />
    <parent link="link_hand_right_1_slide_1" />
    <child link="link_hand_right_1_rack_1" />
  </joint>
  <link name="link_hand_right_1_gripper_2">
    <visual>
      <origin xyz="0 0 0" rpy="0 0 0" />
      <geometry>
        <mesh filename="./meshes/hand_right_1_gripper_2.stl" />
      </geometry>
      <material name="link_hand_right_1_gripper_2_material">
        <color rgba="0.64705882 0.64705882 0.64705882 1" />
      </material>
    </visual>
    <collision>
      <origin xyz="0 0 0" rpy="0 0 0" />
      <geometry>
        <mesh filename="./meshes/hand_right_1_gripper_2.stl" />
      </geometry>
    </collision>
    <inertial>
      <mass value="0.034294135" />
      <inertia ixx="1.6044041e-05" iyy="2.1207498e-05" izz="8.9235264e-06" ixy="0" ixz="3.1415313e-06" iyz="0" />
      <origin xyz="0.0067900014 0.010305276 -0.024181156" rpy="-1.9607781 0.33467797 -1.7089539" />
    </inertial>
  </link>
  <joint name="joint_hand_right_1_fastened_9" type="fixed">
    <origin xyz="0 -0.020000005 -0.005" rpy="0 0 0" />
    <parent link="link_hand_right_1_rack_2" />
    <child link="link_hand_right_1_gripper_2" />
  </joint>
  <link name="link_hand_right_1_gripper_1">
    <visual>
      <origin xyz="0 0 0" rpy="0 0 0" />
      <geometry>
        <mesh filename="./meshes/hand_right_1_gripper_1.stl" />
      </geometry>
      <material name="link_hand_right_1_gripper_1_material">
        <color rgba="0.64705882 0.64705882 0.64705882 1" />
      </material>
    </visual>
    <collision>
      <origin xyz="0 0 0" rpy="0 0 0" />
      <geometry>
        <mesh filename="./meshes/hand_right_1_gripper_1.stl" />
      </geometry>
    </collision>
    <inertial>
      <mass value="0.034294135" />
      <inertia ixx="1.6044041e-05" iyy="2.1207498e-05" izz="8.9235264e-06" ixy="0" ixz="3.1415313e-06" iyz="0" />
      <origin xyz="0.0067900014 0.010305276 -0.024181156" rpy="-1.9607781 0.33467797 -1.7089539" />
    </inertial>
  </link>
  <joint name="joint_hand_right_1_fastened_14" type="fixed">
    <origin xyz="0 0 -0.005" rpy="0 0 0" />
    <parent link="link_hand_right_1_rack_1" />
    <child link="link_hand_right_1_gripper_1" />
  </joint>
</robot>
